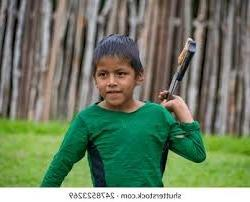Human: (38, 31, 205, 186)
